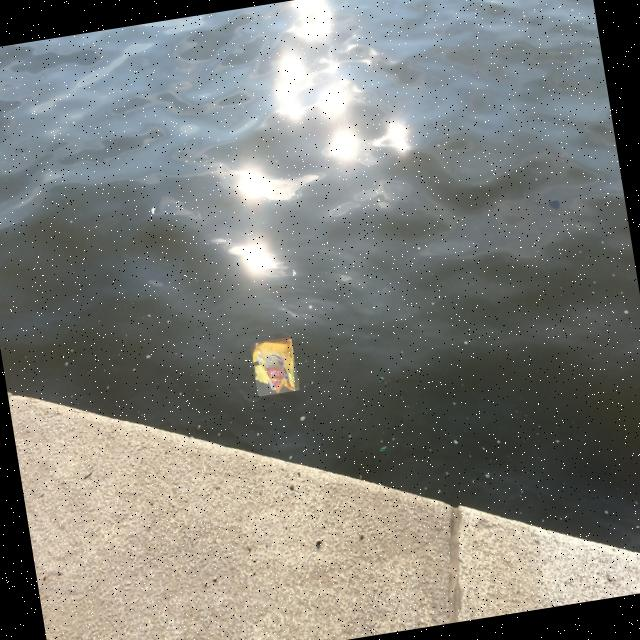Other plastic bottle: (380, 447, 387, 450)
Plastic film: (253, 337, 296, 393)
Unlabeled litter: (379, 381, 385, 383)
